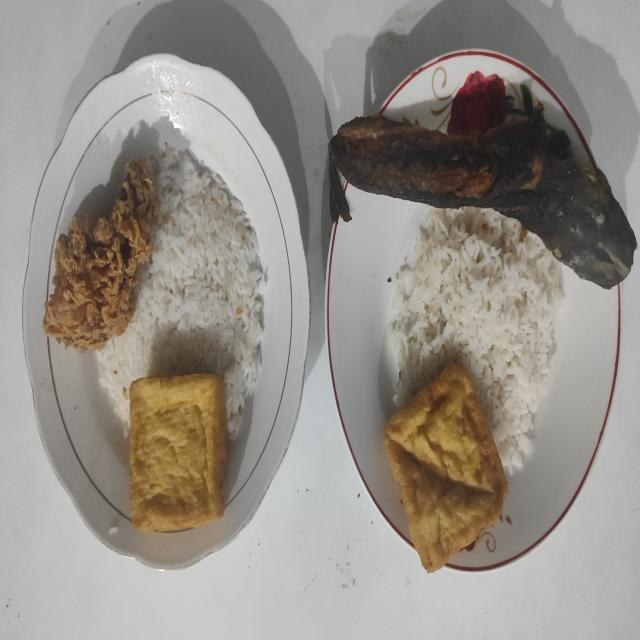nasi_putih: (96, 143, 271, 440), (385, 207, 565, 475)
tahu_goreng: (384, 364, 508, 572), (130, 373, 228, 532)
